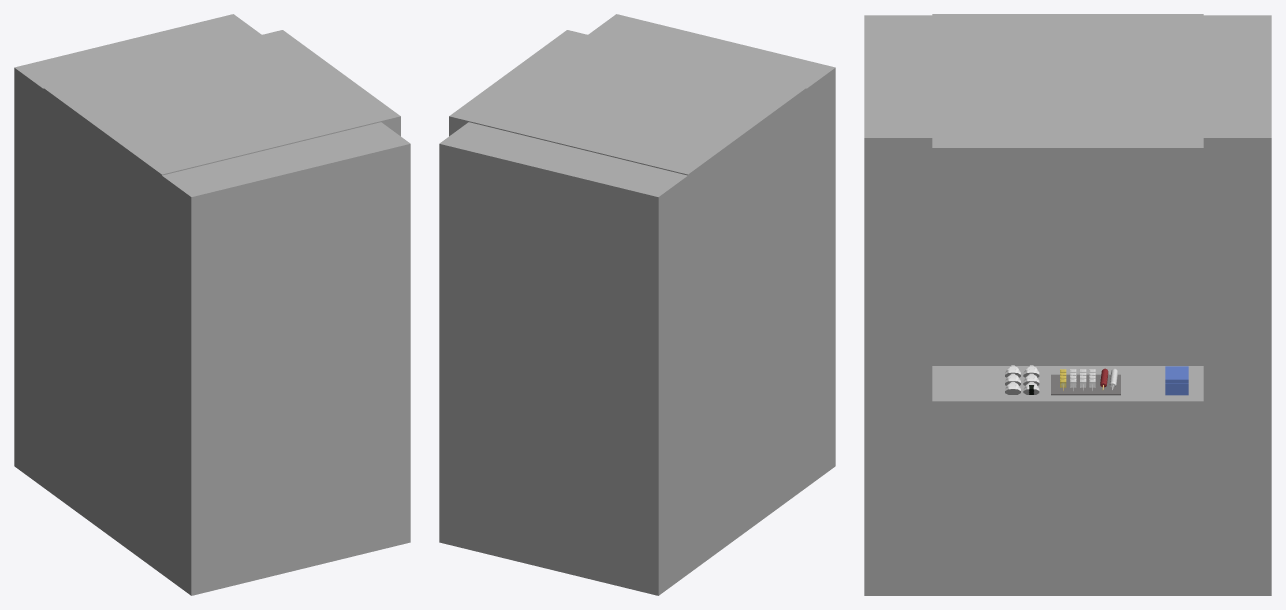
The model's file is Tuck_Shop.fbx.
The picture shows the model from 3 angles, left to right: view 1: azimuth 30°, elevation 25°; view 2: azimuth 150°, elevation 25°; view 3: azimuth 270°, elevation 25°; orthographic projection. The views are drawn at different scales.
Visible parts, largest first — view 1: Tuck Shop; view 2: Tuck Shop; view 3: Tuck Shop, Mat, Cash_Machine.
Part boxes in pixels (<box>): Tuck Shop: <box>14,14,410,595</box>; Tuck Shop: <box>439,14,835,595</box>; Tuck Shop: <box>864,14,1271,595</box>; Mat: <box>1051,374,1120,395</box>; Cash_Machine: <box>1165,366,1188,395</box>.
Bounding box in the file's own units: 757 × 1210 × 972.
